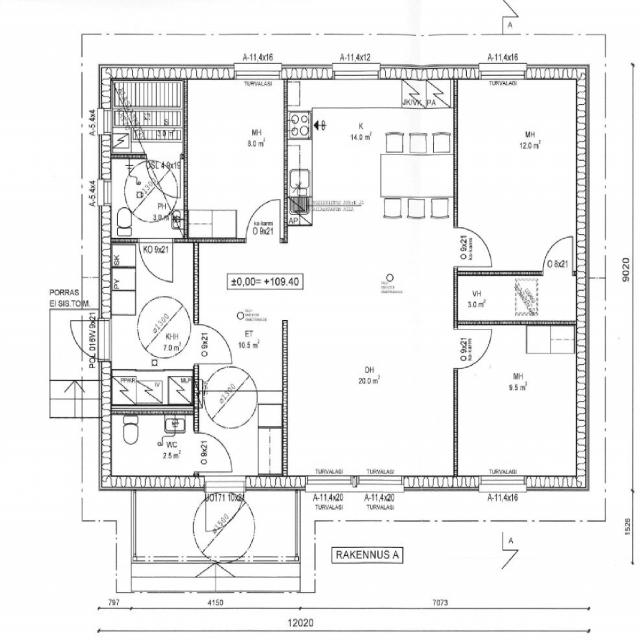door: (206, 475, 244, 535), (65, 319, 112, 359), (246, 197, 281, 243), (194, 431, 233, 472), (146, 152, 180, 198), (453, 227, 492, 266), (194, 324, 233, 363), (454, 328, 492, 368), (138, 238, 172, 282), (543, 235, 573, 275)
